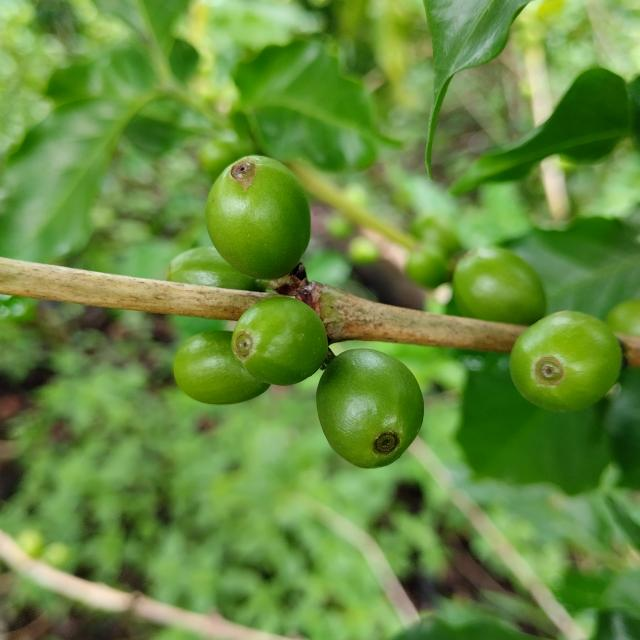green: (205, 155, 311, 279), (316, 349, 424, 469), (510, 311, 623, 412), (231, 296, 328, 386), (453, 247, 547, 325), (173, 331, 269, 404), (167, 247, 260, 291)
